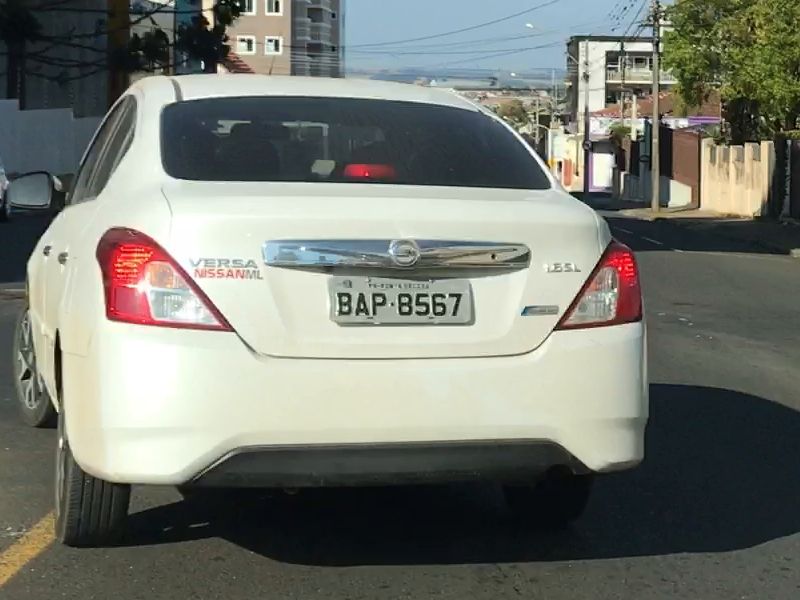placa: (328, 277, 472, 324)
